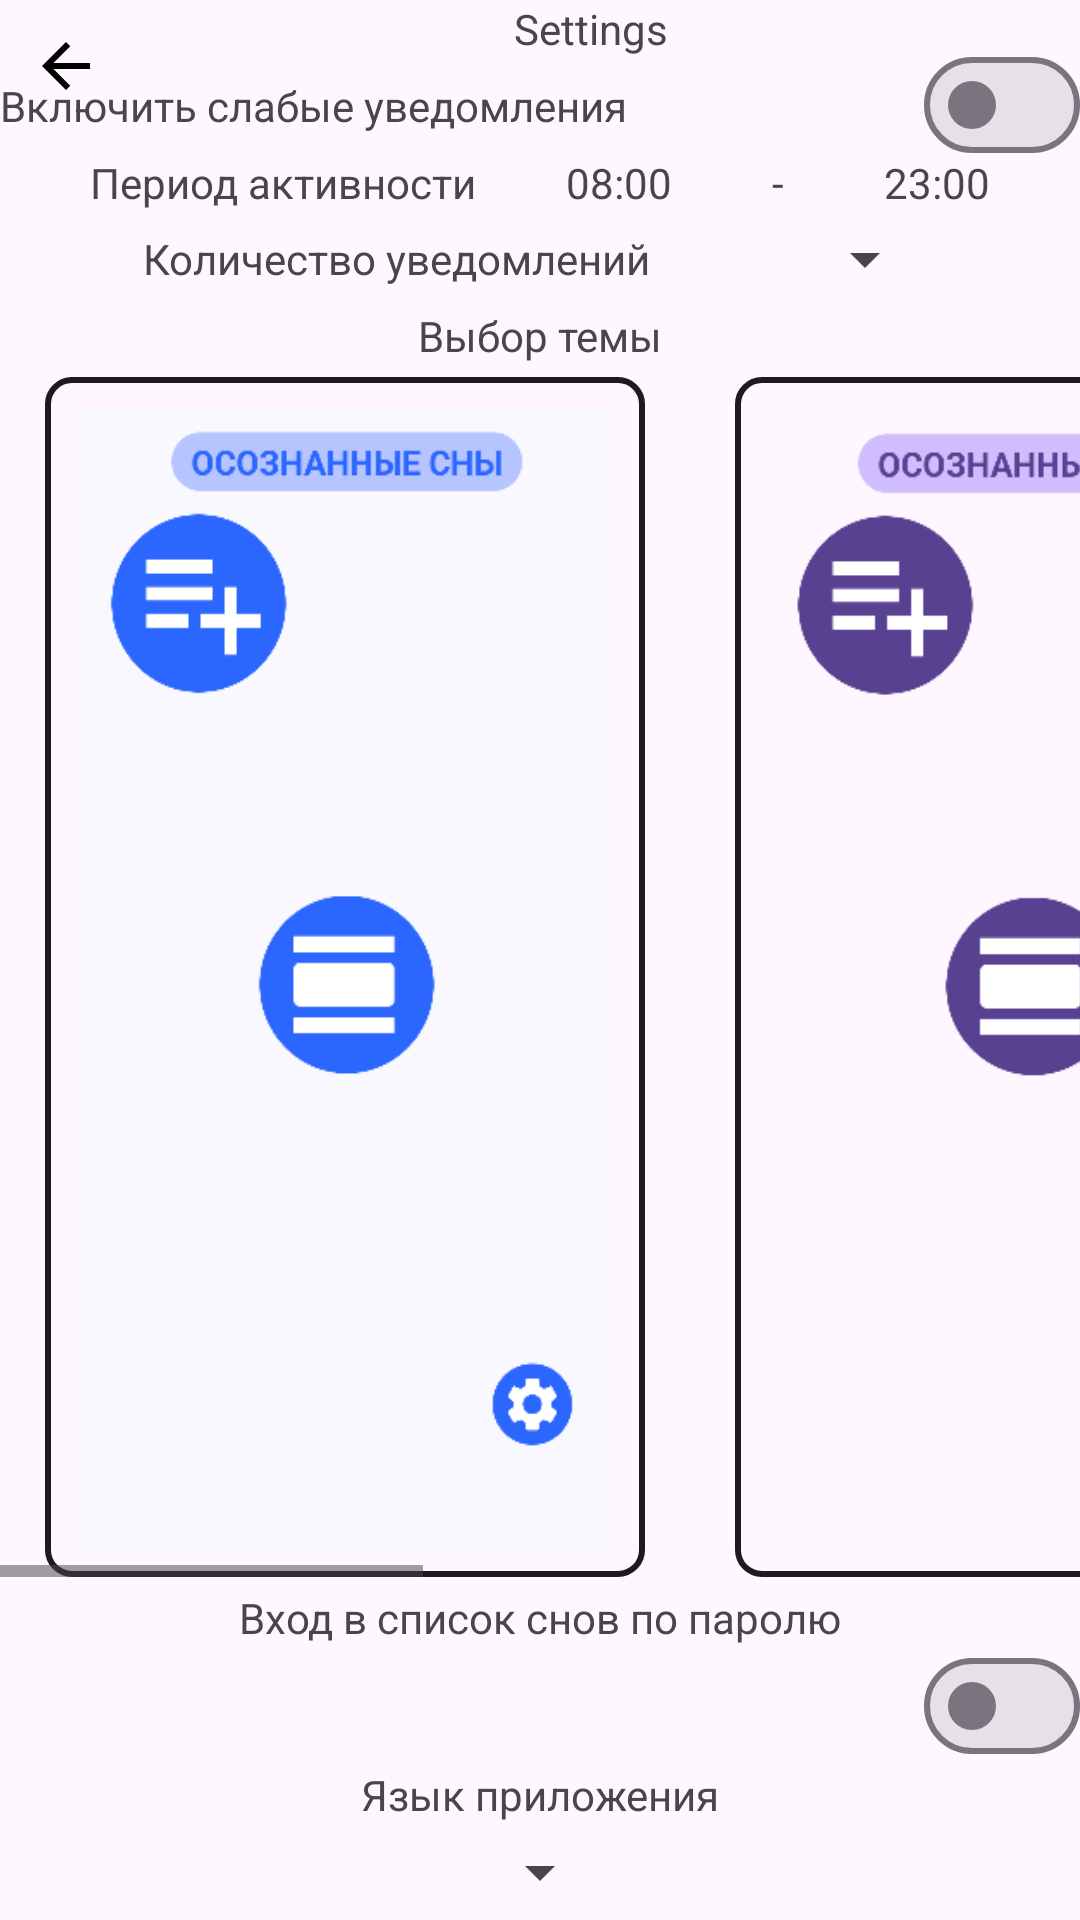

Icon click points for this 1080x1920 phone screenshot, format (x=x, y=y):
all arrowback: (x=66, y=66)
